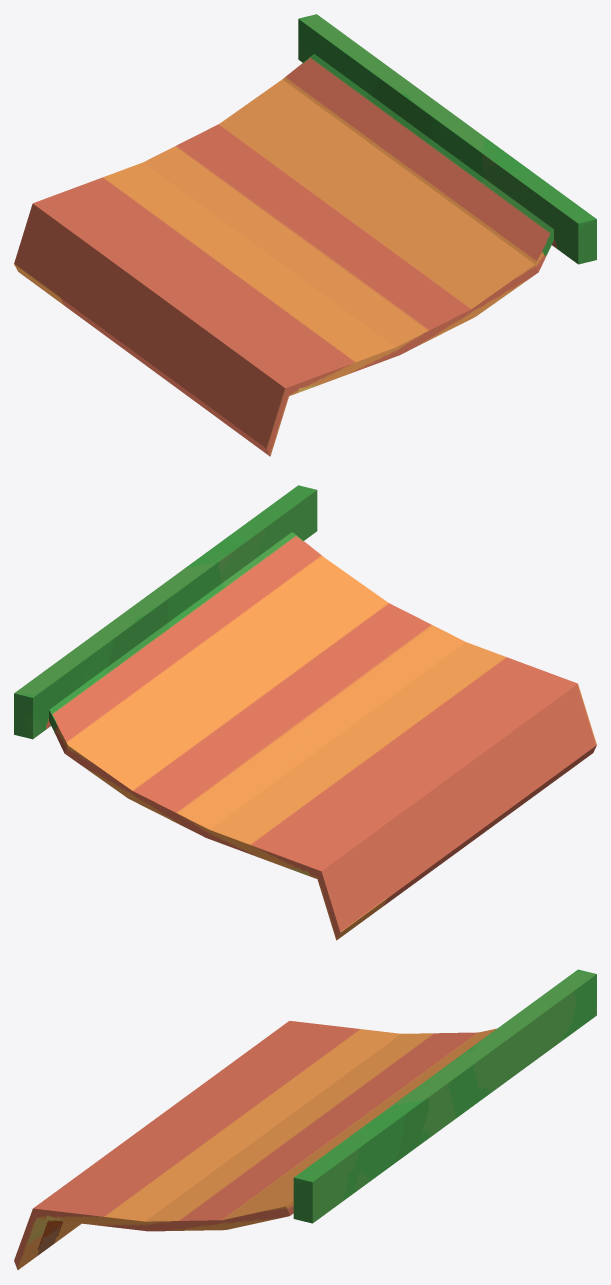
The model's file is curtain.fbx.
3 views of the same model, one above another, from view 1: azimuth 30°, elevation 25°; view 2: azimuth 150°, elevation 25°; view 3: azimuth 330°, elevation 25° (orthographic).
Visible parts, largest first — view 1: CURTAIN; view 2: CURTAIN; view 3: CURTAIN.
Part boxes in pixels (x1=…): CURTAIN: x1=14, y1=14, x2=596, y2=456; CURTAIN: x1=14, y1=485, x2=596, y2=940; CURTAIN: x1=14, y1=969, x2=596, y2=1269.
Bounding box in the file's own units: 301 × 162 × 468.
Materials: 1 (1 with a texture image).
